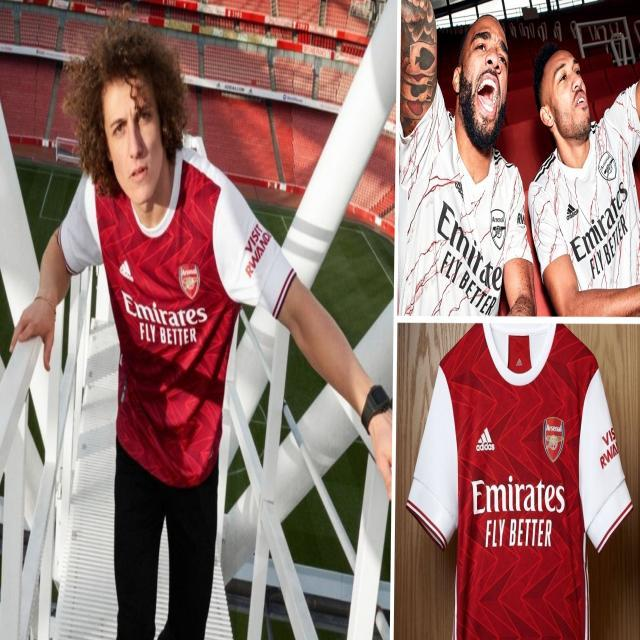Adidas: (475, 424, 494, 452), (119, 259, 134, 282), (454, 179, 466, 201), (566, 203, 580, 220)
Emirates: (437, 197, 502, 292), (569, 177, 629, 263), (120, 288, 208, 328), (472, 476, 565, 513)
